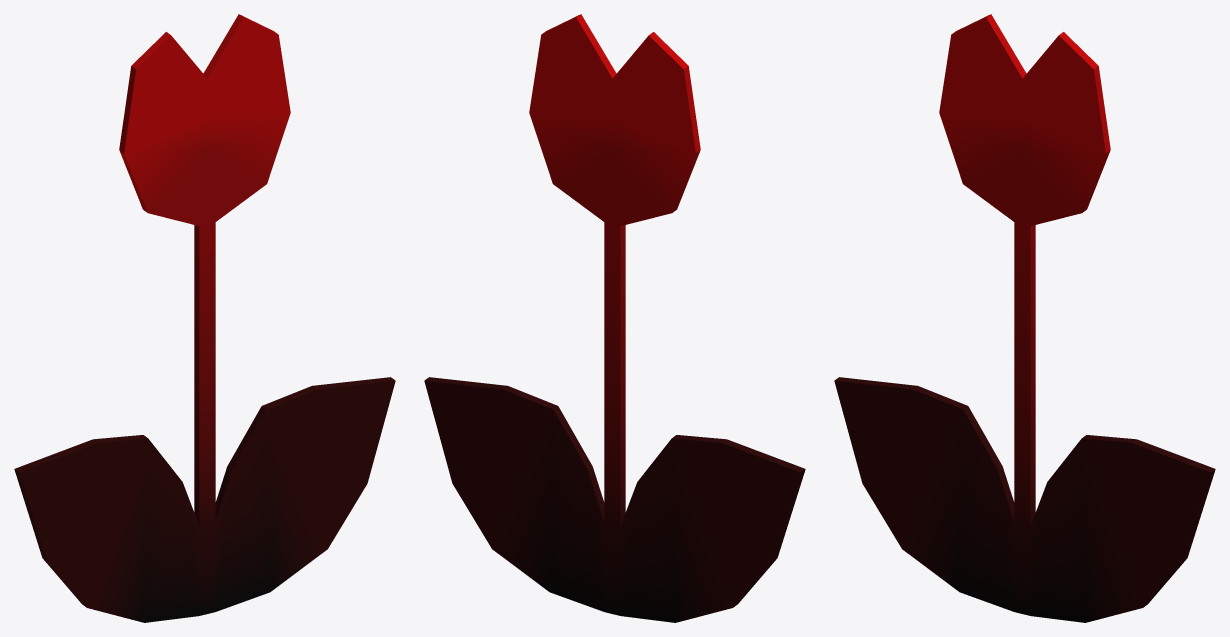
Rendered from Flower01.fbx.
3 renders of one model, left to right at view 1: azimuth 30°, elevation 25°; view 2: azimuth 150°, elevation 25°; view 3: azimuth 330°, elevation 25°, orthographic.
Visible parts, largest first — view 1: Flower01; view 2: Flower01; view 3: Flower01.
Boxes of the visible parts, bbox=[...] form: Flower01: bbox=[14, 14, 395, 622]; Flower01: bbox=[424, 14, 805, 622]; Flower01: bbox=[834, 14, 1215, 622].
Size of the model in its own units: 27.91 by 41.61 by 0.633.
